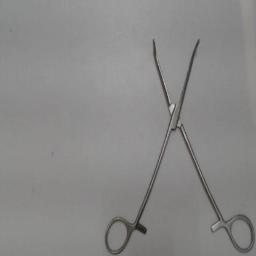Lahey Forceps: (102, 33, 256, 255)
